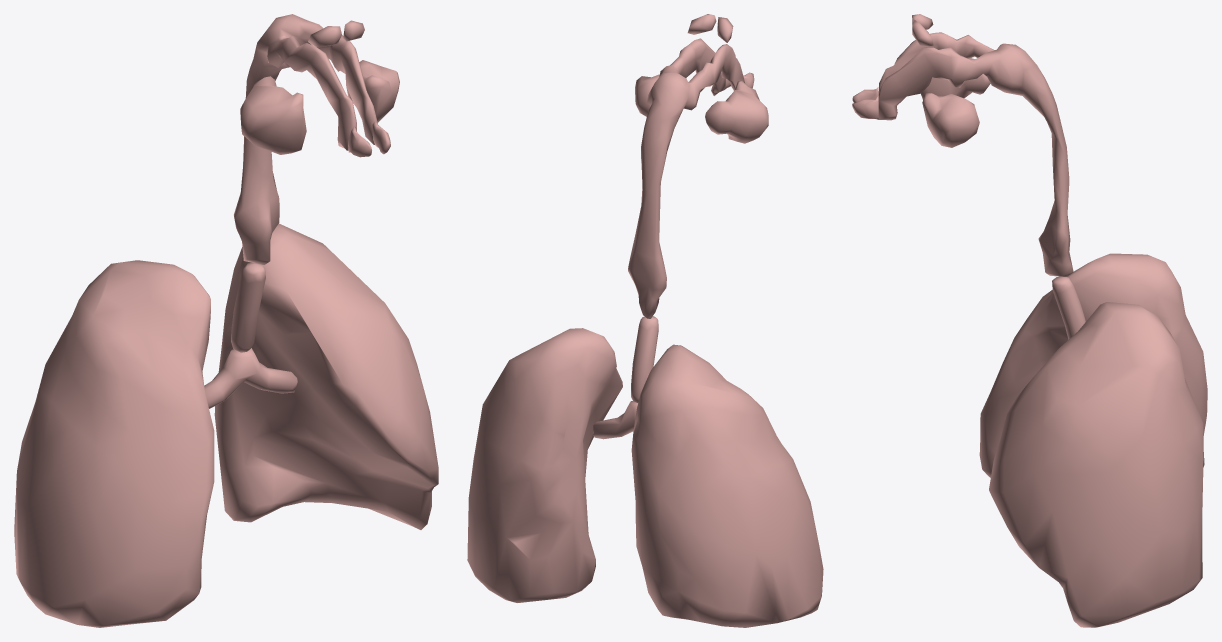
File: pediatric_child_5y_male.respiratory.LOD2.glb
3 views of the same model, side by side, from view 1: azimuth 30°, elevation 25°; view 2: azimuth 150°, elevation 25°; view 3: azimuth 270°, elevation 25° (orthographic). The views are drawn at different scales.
Parts seen in each view (by area): view 1: PEDIATRIC.CHILD_5Y.MALE.RESPIRATORY.LUNG.R, PEDIATRIC.CHILD_5Y.MALE.RESPIRATORY.LUNG.L, PEDIATRIC.CHILD_5Y.MALE.RESPIRATORY.ET2, PEDIATRIC.CHILD_5Y.MALE.RESPIRATORY.BB1, PEDIATRIC.CHILD_5Y.MALE.RESPIRATORY.TRACHEA, PEDIATRIC.CHILD_5Y.MALE.RESPIRATORY.ET1; view 2: PEDIATRIC.CHILD_5Y.MALE.RESPIRATORY.LUNG.R, PEDIATRIC.CHILD_5Y.MALE.RESPIRATORY.LUNG.L, PEDIATRIC.CHILD_5Y.MALE.RESPIRATORY.ET2, PEDIATRIC.CHILD_5Y.MALE.RESPIRATORY.TRACHEA, PEDIATRIC.CHILD_5Y.MALE.RESPIRATORY.BB1; view 3: PEDIATRIC.CHILD_5Y.MALE.RESPIRATORY.LUNG.L, PEDIATRIC.CHILD_5Y.MALE.RESPIRATORY.ET2, PEDIATRIC.CHILD_5Y.MALE.RESPIRATORY.LUNG.R, PEDIATRIC.CHILD_5Y.MALE.RESPIRATORY.TRACHEA, PEDIATRIC.CHILD_5Y.MALE.RESPIRATORY.ET1.
Boxes of the visible parts, left/top/right/bottom form: PEDIATRIC.CHILD_5Y.MALE.RESPIRATORY.LUNG.R: left=14, top=260, right=214, bottom=627; PEDIATRIC.CHILD_5Y.MALE.RESPIRATORY.LUNG.L: left=214, top=223, right=438, bottom=529; PEDIATRIC.CHILD_5Y.MALE.RESPIRATORY.ET2: left=234, top=14, right=399, bottom=264; PEDIATRIC.CHILD_5Y.MALE.RESPIRATORY.BB1: left=204, top=348, right=297, bottom=408; PEDIATRIC.CHILD_5Y.MALE.RESPIRATORY.TRACHEA: left=231, top=262, right=265, bottom=352; PEDIATRIC.CHILD_5Y.MALE.RESPIRATORY.ET1: left=348, top=121, right=390, bottom=157; PEDIATRIC.CHILD_5Y.MALE.RESPIRATORY.LUNG.R: left=631, top=344, right=823, bottom=627; PEDIATRIC.CHILD_5Y.MALE.RESPIRATORY.LUNG.L: left=467, top=328, right=622, bottom=602; PEDIATRIC.CHILD_5Y.MALE.RESPIRATORY.ET2: left=628, top=14, right=768, bottom=318; PEDIATRIC.CHILD_5Y.MALE.RESPIRATORY.TRACHEA: left=631, top=316, right=658, bottom=402; PEDIATRIC.CHILD_5Y.MALE.RESPIRATORY.BB1: left=593, top=401, right=637, bottom=439; PEDIATRIC.CHILD_5Y.MALE.RESPIRATORY.LUNG.L: left=989, top=302, right=1203, bottom=627; PEDIATRIC.CHILD_5Y.MALE.RESPIRATORY.ET2: left=878, top=14, right=1073, bottom=276; PEDIATRIC.CHILD_5Y.MALE.RESPIRATORY.LUNG.R: left=979, top=253, right=1207, bottom=477; PEDIATRIC.CHILD_5Y.MALE.RESPIRATORY.TRACHEA: left=1052, top=276, right=1085, bottom=339; PEDIATRIC.CHILD_5Y.MALE.RESPIRATORY.ET1: left=852, top=87, right=878, bottom=119.
Size of the model in its own units: 0.172 by 0.2591 by 0.1557.
